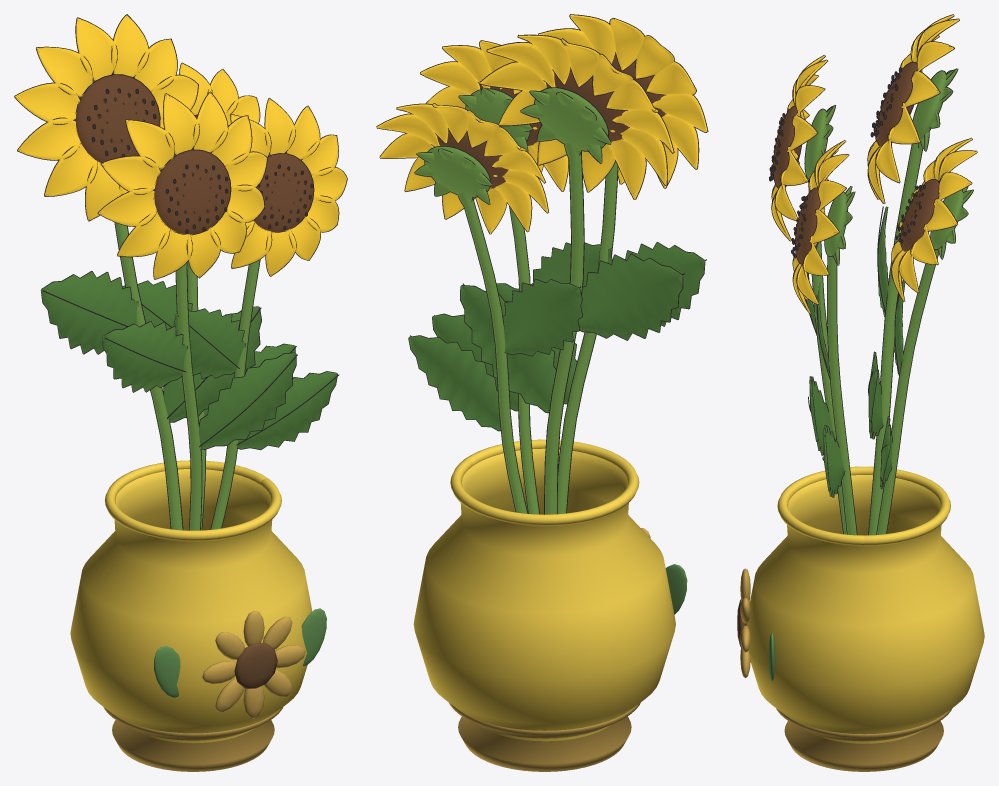
The model's file is vase_sunflower_flowers.glb.
The picture shows the model from 3 angles, left to right: view 1: azimuth 30°, elevation 25°; view 2: azimuth 150°, elevation 25°; view 3: azimuth 270°, elevation 25°; orthographic projection. The views are drawn at different scales.
Visible parts, largest first — view 1: Yellow_round_body, sunflower_Geometry.001, sunflower_Geometry.002, sunflower_Geometry, Ochre_foot_band, sunflower_Geometry.003, Yellow_rolled_rim, Sunflower_medallion_center, Sunflower_leaf, Sunflower_leaf.001, Sunflower_medallion_petal.006, Sunflower_medallion_petal (+3 smaller); view 2: Yellow_round_body, sunflower_Geometry.002, sunflower_Geometry.003, sunflower_Geometry.001, sunflower_Geometry, Ochre_foot_band, Yellow_rolled_rim, Sunflower_leaf; view 3: Yellow_round_body, sunflower_Geometry.002, sunflower_Geometry.003, sunflower_Geometry, sunflower_Geometry.001, Ochre_foot_band, Yellow_rolled_rim.
Boxes of the visible parts, x1=… form: Yellow_round_body: x1=70, y1=469, x2=312, y2=743; sunflower_Geometry.001: x1=97, y1=91, x2=297, y2=530; sunflower_Geometry.002: x1=14, y1=14, x2=261, y2=530; sunflower_Geometry: x1=173, y1=98, x2=347, y2=529; Ochre_foot_band: x1=103, y1=707, x2=283, y2=771; sunflower_Geometry.003: x1=122, y1=62, x2=296, y2=530; Yellow_rolled_rim: x1=104, y1=460, x2=281, y2=540; Sunflower_medallion_center: x1=234, y1=643, x2=277, y2=688; Sunflower_leaf: x1=154, y1=646, x2=180, y2=697; Sunflower_leaf.001: x1=301, y1=608, x2=326, y2=666; Sunflower_medallion_petal.006: x1=202, y1=661, x2=236, y2=684; Sunflower_medallion_petal: x1=243, y1=610, x2=264, y2=646; Yellow_round_body: x1=413, y1=448, x2=675, y2=741; sunflower_Geometry.002: x1=460, y1=34, x2=684, y2=514; sunflower_Geometry.003: x1=376, y1=103, x2=582, y2=513; sunflower_Geometry.001: x1=496, y1=14, x2=708, y2=513; sunflower_Geometry: x1=420, y1=40, x2=612, y2=514; Ochre_foot_band: x1=449, y1=702, x2=640, y2=771; Yellow_rolled_rim: x1=450, y1=439, x2=639, y2=525; Sunflower_leaf: x1=665, y1=564, x2=687, y2=614; Yellow_round_body: x1=746, y1=475, x2=984, y2=743; sunflower_Geometry.002: x1=867, y1=14, x2=959, y2=535; sunflower_Geometry.003: x1=876, y1=137, x2=977, y2=534; sunflower_Geometry: x1=791, y1=140, x2=857, y2=535; sunflower_Geometry.001: x1=769, y1=55, x2=846, y2=534; Ochre_foot_band: x1=776, y1=708, x2=952, y2=771; Yellow_rolled_rim: x1=777, y1=466, x2=950, y2=545.
Bounding box in the file's own units: 0.182 × 0.4315 × 0.1397.
